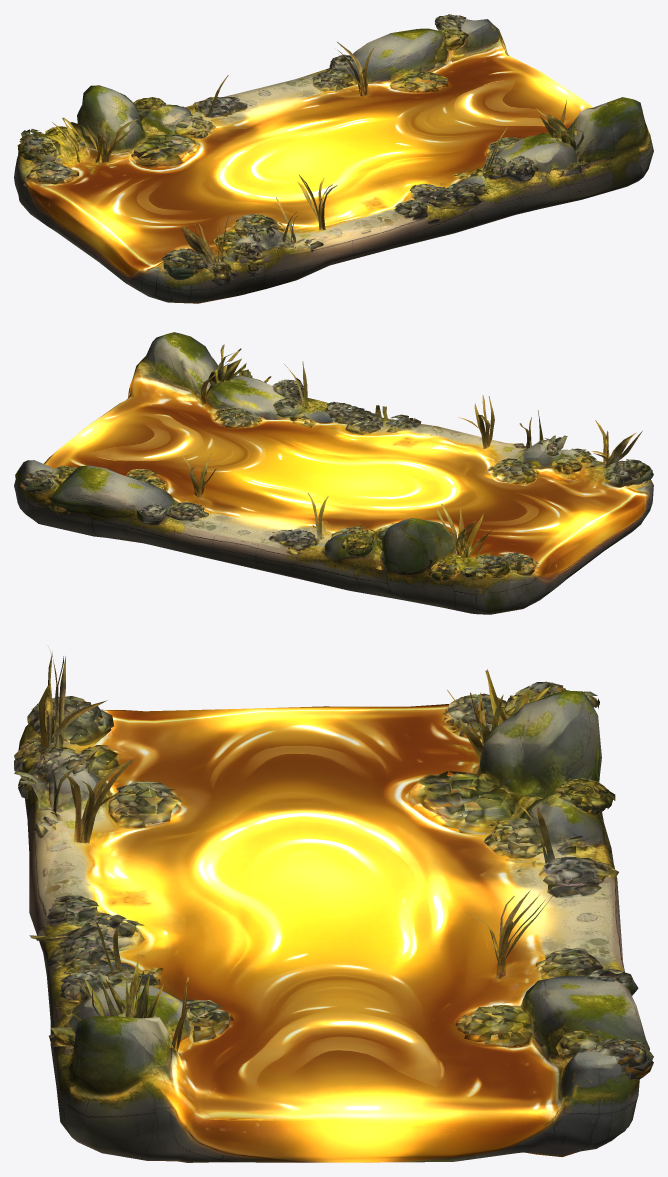
The model's file is Meshy_AI_River_of_Gold_0721143519_texture.fbx.
3 renders of one model, top to bottom at view 1: azimuth 30°, elevation 25°; view 2: azimuth 150°, elevation 25°; view 3: azimuth 270°, elevation 25°, orthographic. The views are drawn at different scales.
Visible parts, largest first — view 1: mesh_node; view 2: mesh_node; view 3: mesh_node.
Part boxes in pixels (box(x1,y1,x2,y2)): mesh_node: box(14, 14, 653, 303); mesh_node: box(14, 332, 653, 614); mesh_node: box(14, 651, 653, 1162).
Bounding box in the file's own units: 100 × 16.99 × 64.84.
Materials: 1 (1 with a texture image).
